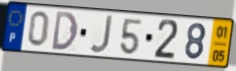0: (26, 10, 52, 49)
2: (152, 18, 180, 62)
5: (119, 18, 144, 56)
8: (184, 22, 208, 61)
D: (51, 10, 80, 52)
J: (88, 14, 115, 55)
